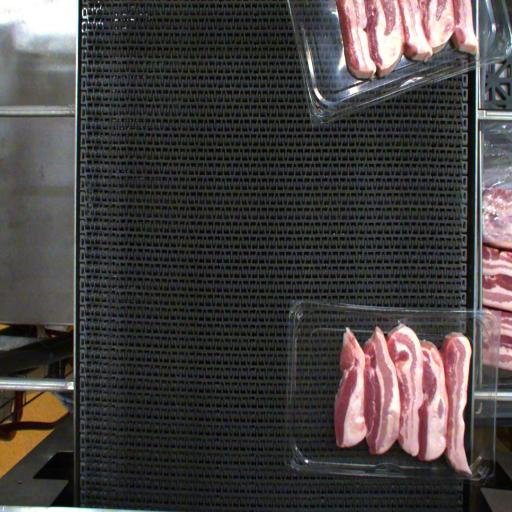packaging-error: (395, 316, 408, 327)
